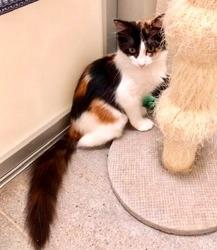ragdoll: (109, 11, 172, 74)
